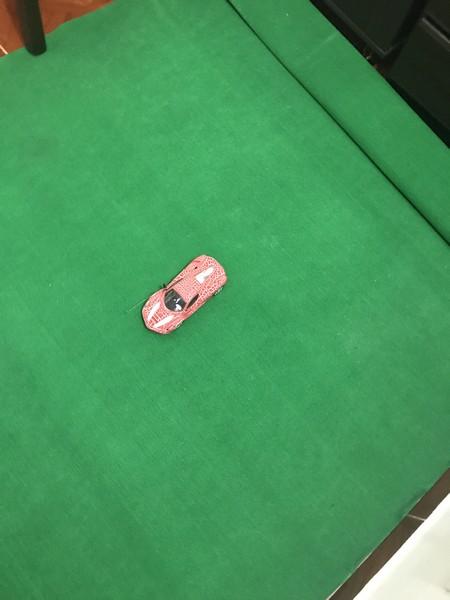RC: (133, 253, 230, 337)
